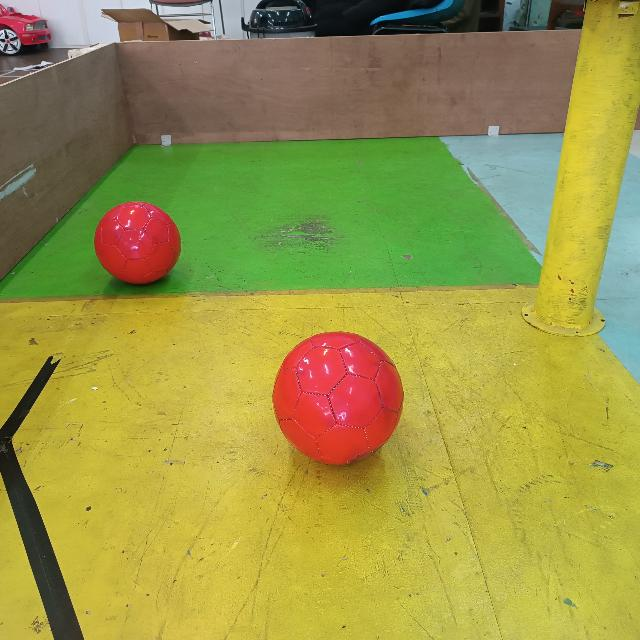R: (270, 328, 406, 468), (93, 200, 181, 286)
